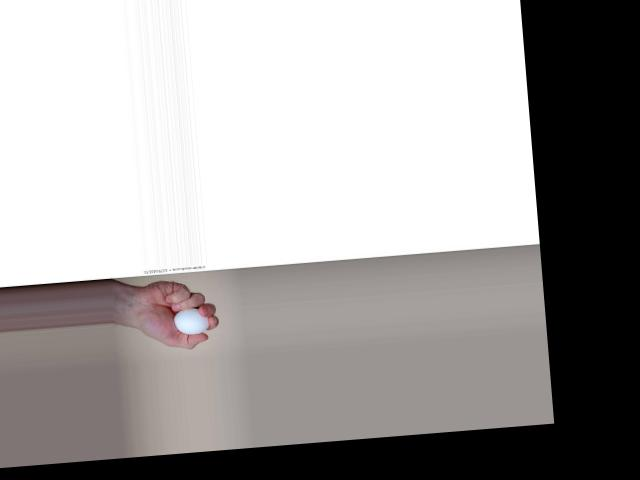egg: (171, 307, 209, 335)
